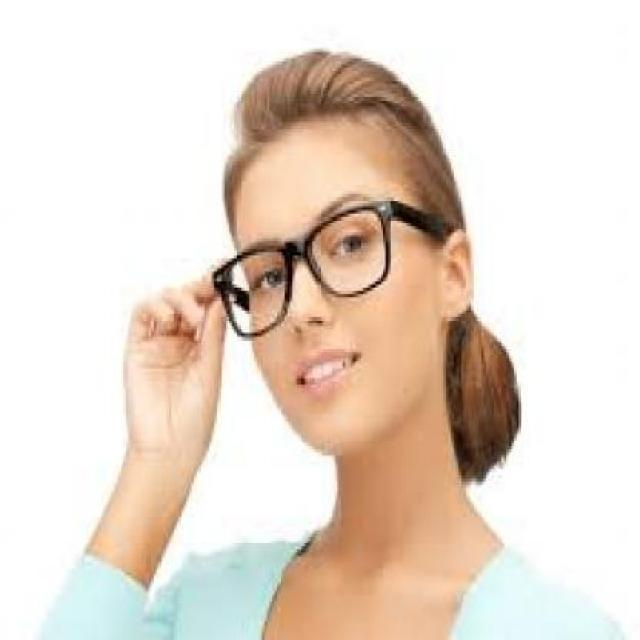glasses: (206, 184, 406, 346)
